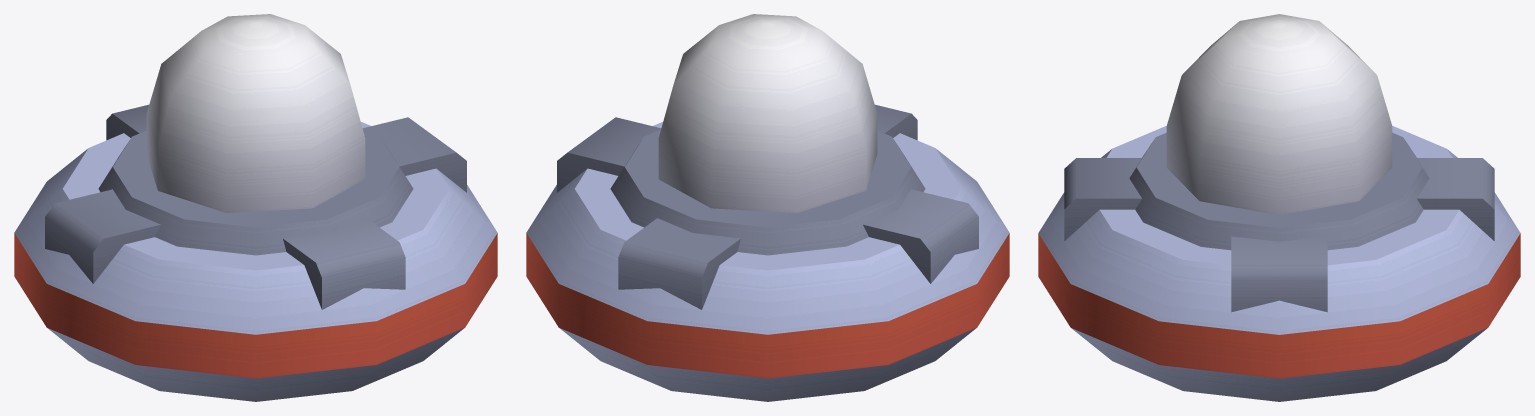
The model's file is tower-defense-kit--enemy-ufo-a.glb.
3 renders of one model, left to right at view 1: azimuth 30°, elevation 25°; view 2: azimuth 150°, elevation 25°; view 3: azimuth 270°, elevation 25°, orthographic.
Visible parts, largest first — view 1: enemy-ufo-a; view 2: enemy-ufo-a; view 3: enemy-ufo-a.
Boxes of the visible parts, x1,y1,x2,y2 form: enemy-ufo-a: (14,14,497,401); enemy-ufo-a: (526,14,1009,401); enemy-ufo-a: (1038,14,1520,401).
Bounding box in the file's own units: 1 × 0.6779 × 1.
1 material, 1 textured.
